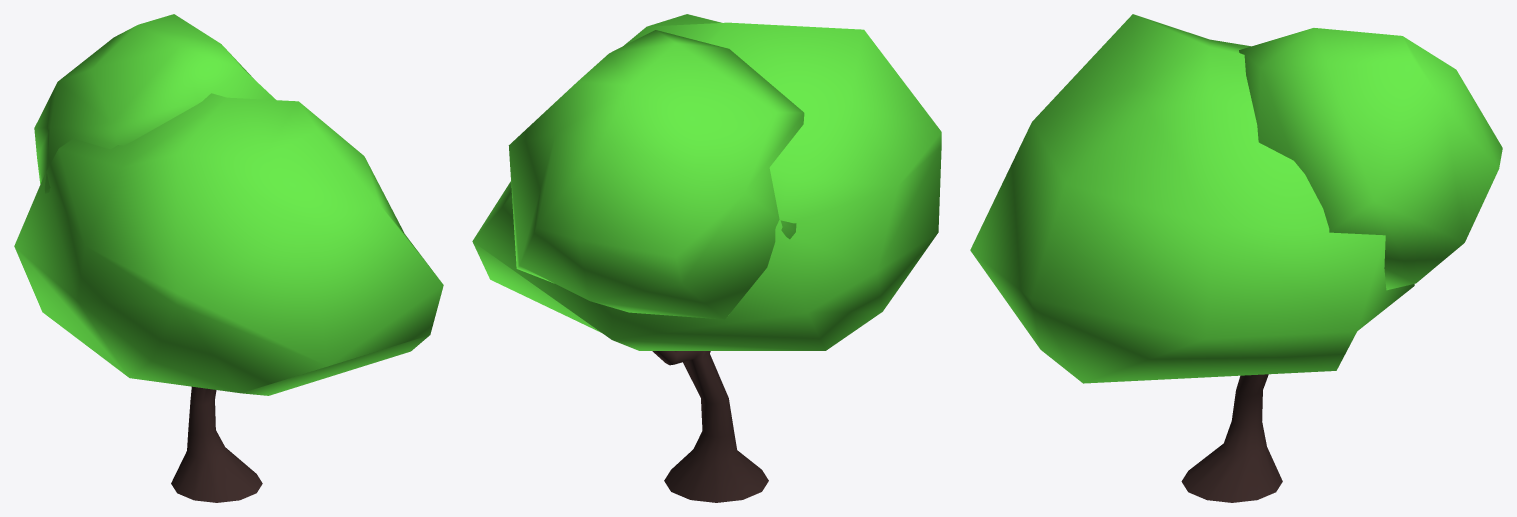
File: tree_04.glb
3 renders of one model, left to right at view 1: azimuth 30°, elevation 25°; view 2: azimuth 150°, elevation 25°; view 3: azimuth 270°, elevation 25°, orthographic. The views are drawn at different scales.
Visible parts, largest first — view 1: TREE_04-COL; view 2: TREE_04-COL; view 3: TREE_04-COL.
Part boxes in pixels (box(x1,y1,x2,y2)): TREE_04-COL: box(14, 14, 443, 502); TREE_04-COL: box(472, 14, 941, 502); TREE_04-COL: box(970, 14, 1502, 502).
Bounding box in the file's own units: 13.92 × 16.98 × 18.1.
